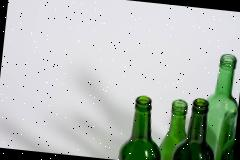glass: (116, 43, 240, 160)
